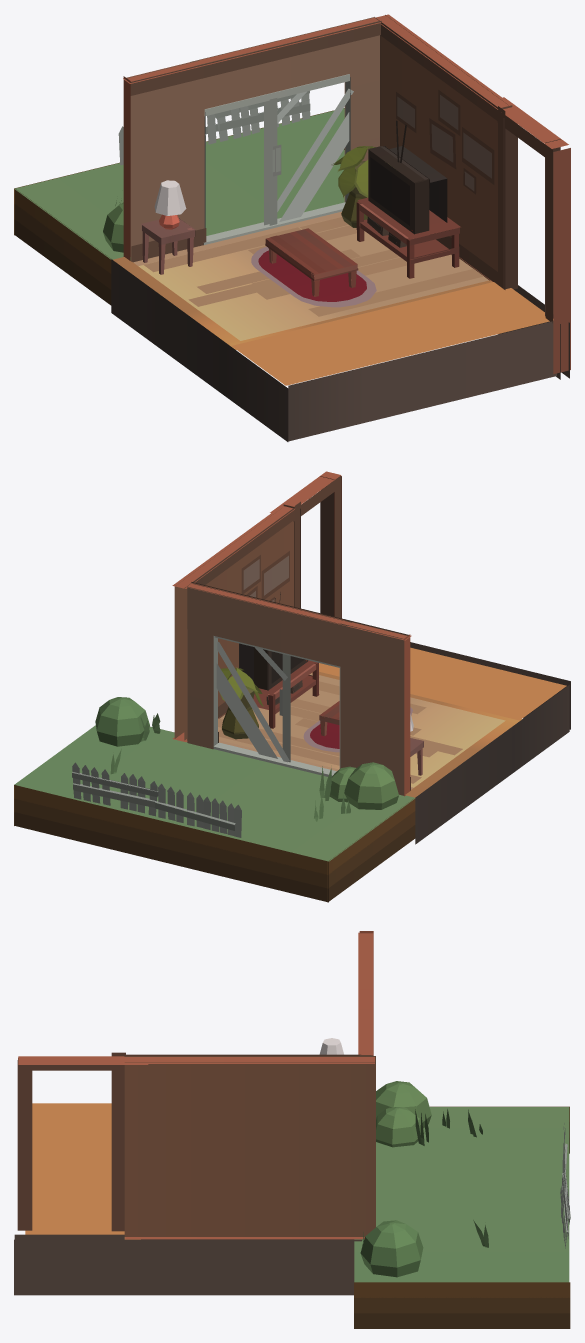
The model's file is test-linear.fbx.
3 views of the same model, one above another, from view 1: azimuth 30°, elevation 25°; view 2: azimuth 150°, elevation 25°; view 3: azimuth 270°, elevation 25° (orthographic). The views are drawn at different scales.
Parts seen in each view (by area): view 1: Floor-livingroom, Livingroom-wall1, Livingroom-wall2, Oudoors, Tv, rug, Coffeetable, Lamptable, Plant; view 2: Oudoors, Livingroom-wall1, Floor-livingroom, Livingroom-wall2, Tv, Plant, rug; view 3: Livingroom-wall2, Oudoors, Floor-livingroom, Livingroom-wall1.
Boxes of the visible parts, x1,y1,x2,y2 form: Floor-livingroom: (111,211,569,441); Livingroom-wall1: (123,17,381,262); Livingroom-wall2: (374,14,570,374); Oudoors: (14,91,344,305); Tv: (356,120,460,278); rug: (251,246,376,307); Coffeetable: (265,228,358,296); Lamptable: (141,180,195,274); Plant: (331,146,375,227); Oudoors: (14,697,415,902); Livingroom-wall1: (186,582,411,796); Floor-livingroom: (218,642,570,844); Livingroom-wall2: (172,471,341,742); Tv: (239,592,319,728); Plant: (220,667,263,739); rug: (303,707,412,752); Livingroom-wall2: (17,1052,375,1239); Oudoors: (354,1081,570,1328); Floor-livingroom: (14,1103,361,1295); Livingroom-wall1: (358,931,373,1055).
Size of the model in its own units: 8.67 by 5.37 by 11.53.
